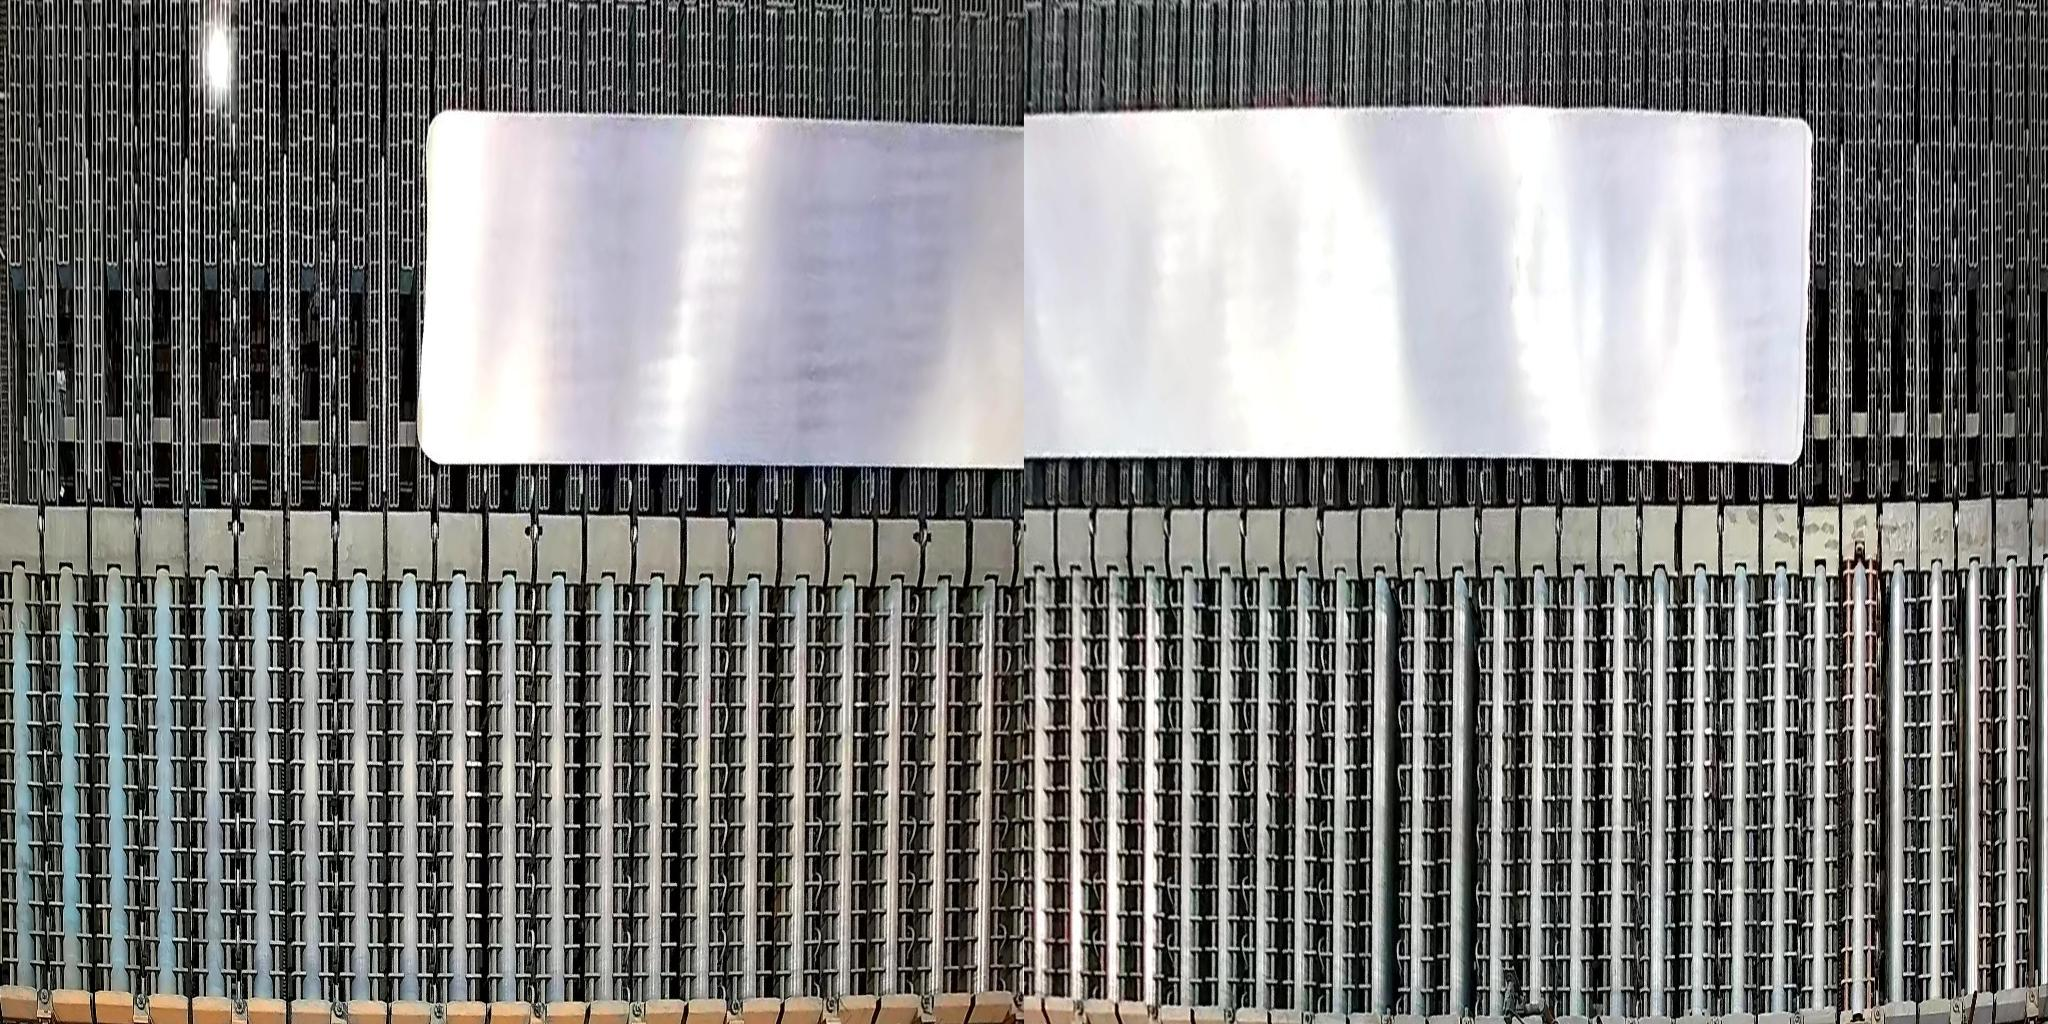coolbed: (3, 9, 2034, 503)
down: (3, 978, 1937, 1024)
up: (3, 505, 2038, 566)
